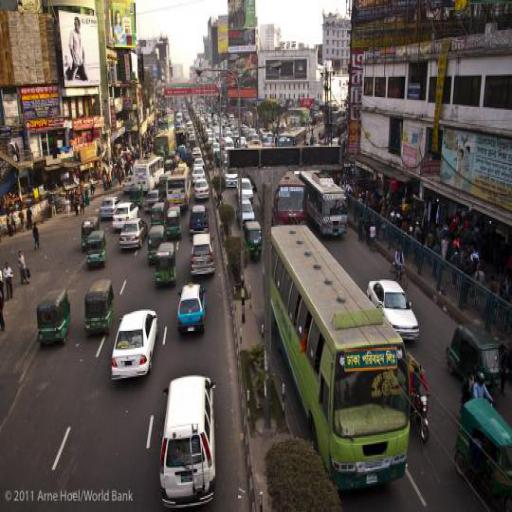auto rickshaw: (454, 398, 512, 510)
bicycle: (388, 261, 409, 289)
bus: (264, 222, 411, 493), (301, 170, 349, 237), (273, 175, 307, 223), (134, 155, 164, 192), (166, 165, 192, 205), (276, 127, 307, 147), (154, 130, 176, 157)
car: (111, 308, 158, 382), (367, 279, 420, 343), (119, 218, 148, 251), (112, 201, 139, 231), (98, 195, 118, 218), (235, 177, 254, 200), (193, 177, 210, 200), (240, 199, 255, 221), (120, 174, 134, 191), (192, 163, 206, 178), (193, 156, 204, 165)
minivan: (158, 374, 217, 508), (190, 231, 214, 278)
motorbike: (410, 388, 432, 443)
suv: (190, 205, 210, 231)
taxi: (175, 281, 207, 335)
three wheelers (CNG): (447, 321, 503, 393), (35, 286, 71, 348), (83, 278, 115, 336), (152, 239, 177, 289), (85, 231, 108, 268), (245, 219, 263, 262), (147, 225, 164, 262), (165, 204, 182, 239), (81, 215, 100, 246), (151, 202, 166, 225)
